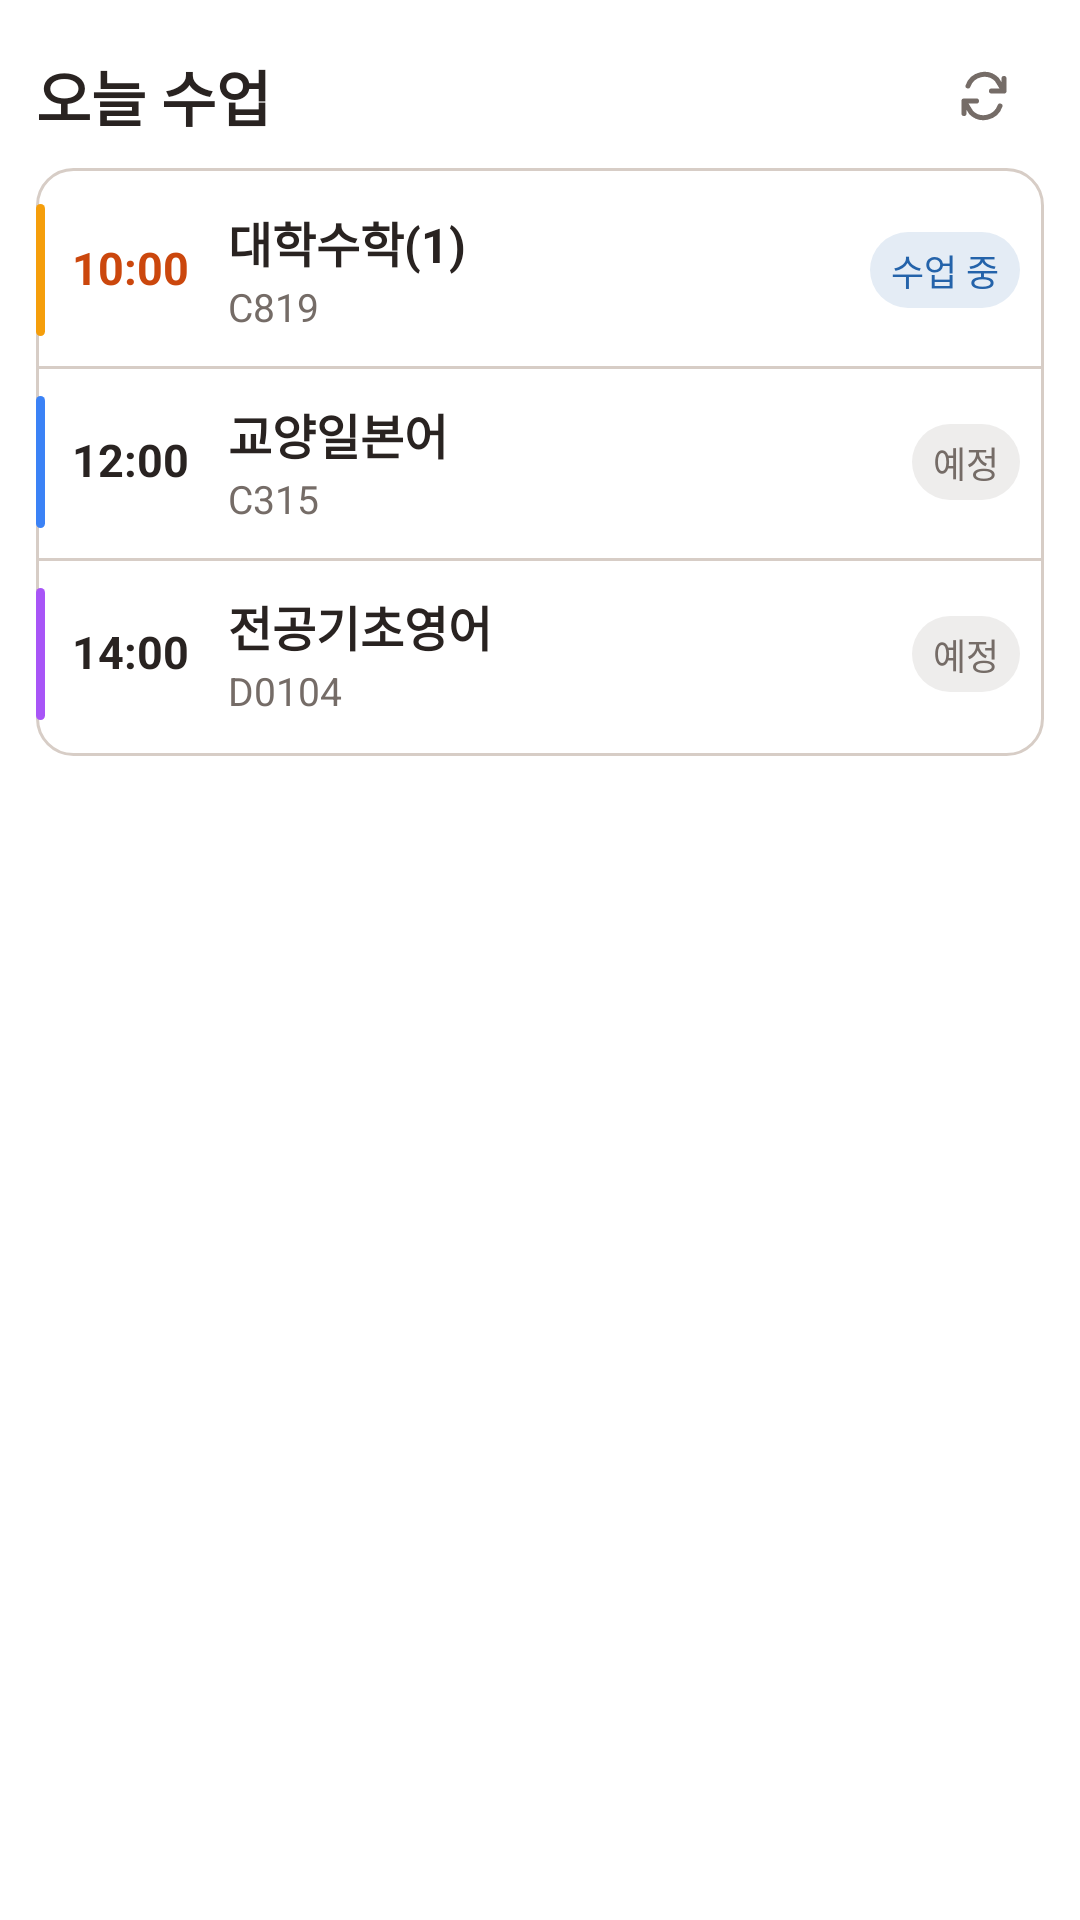

Named icons in this screenshot (1080×1920) and their centers, (x,y):
widget refresh: (984,96)
